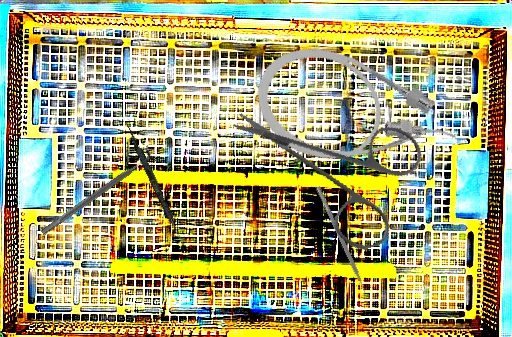Cannula: (239, 27, 470, 204)
Fixation Ring: (35, 143, 160, 242)
Iris Scissors: (230, 61, 446, 278)
Spatula Surgical: (120, 120, 191, 252), (310, 185, 371, 299)
